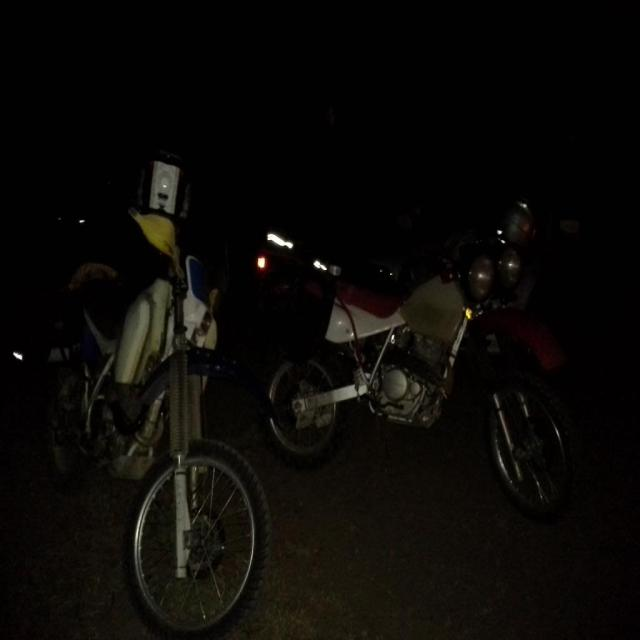Motorbike: (248, 202, 604, 542), (35, 175, 252, 621)
